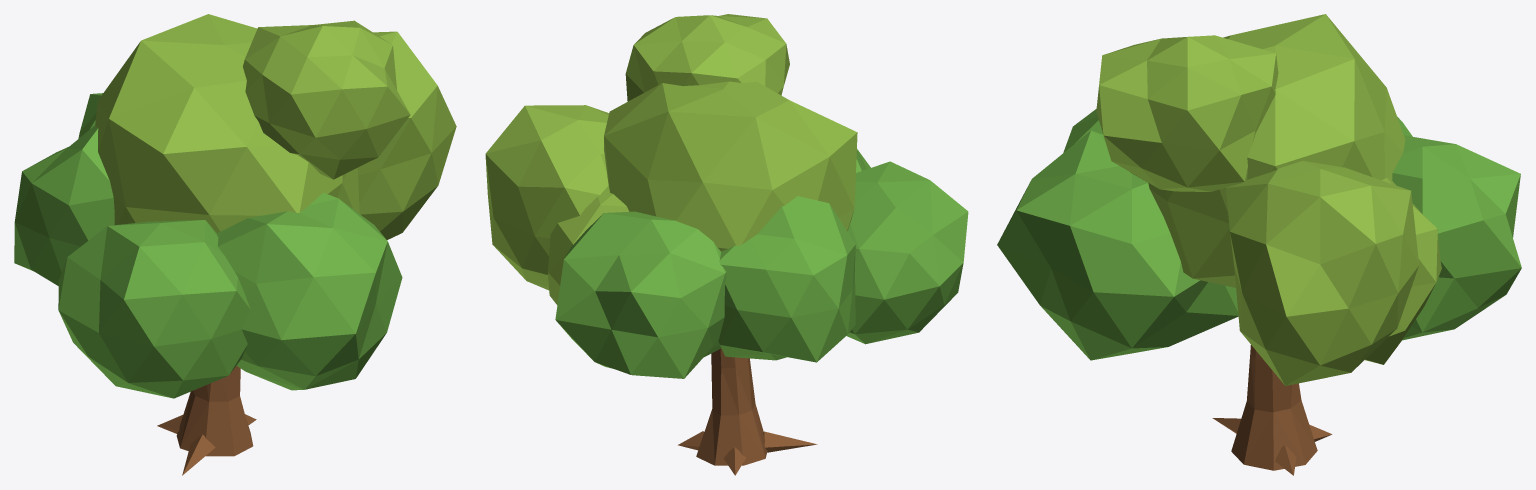
File: HS_LP_Tree_Linden_01.fbx
The picture shows the model from 3 angles, left to right: view 1: azimuth 30°, elevation 25°; view 2: azimuth 150°, elevation 25°; view 3: azimuth 270°, elevation 25°; orthographic projection. The views are drawn at different scales.
Parts seen in each view (by area): view 1: HS_LP_Tree_Linden_01; view 2: HS_LP_Tree_Linden_01; view 3: HS_LP_Tree_Linden_01.
Boxes of the visible parts, x1,y1,x2,y2 form: HS_LP_Tree_Linden_01: [14, 14, 456, 475]; HS_LP_Tree_Linden_01: [485, 14, 968, 475]; HS_LP_Tree_Linden_01: [997, 14, 1521, 475].
Bounding box in the file's own units: 545 × 514 × 540.
